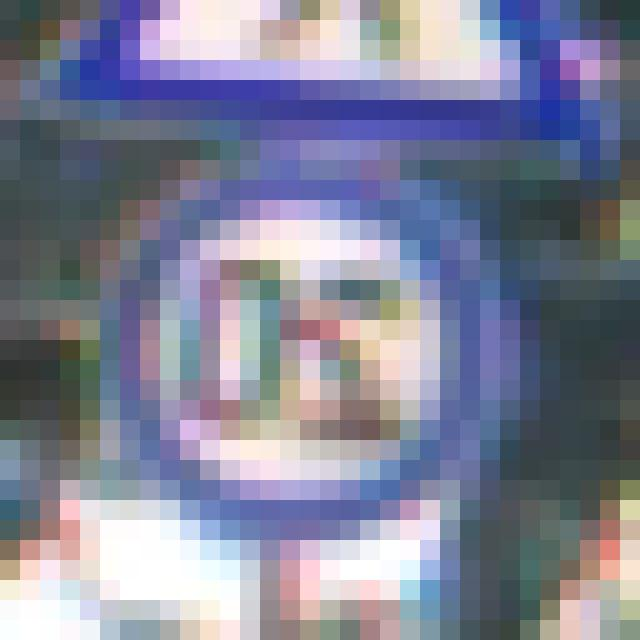SPEED LIMIT 20: (140, 229, 452, 499)
